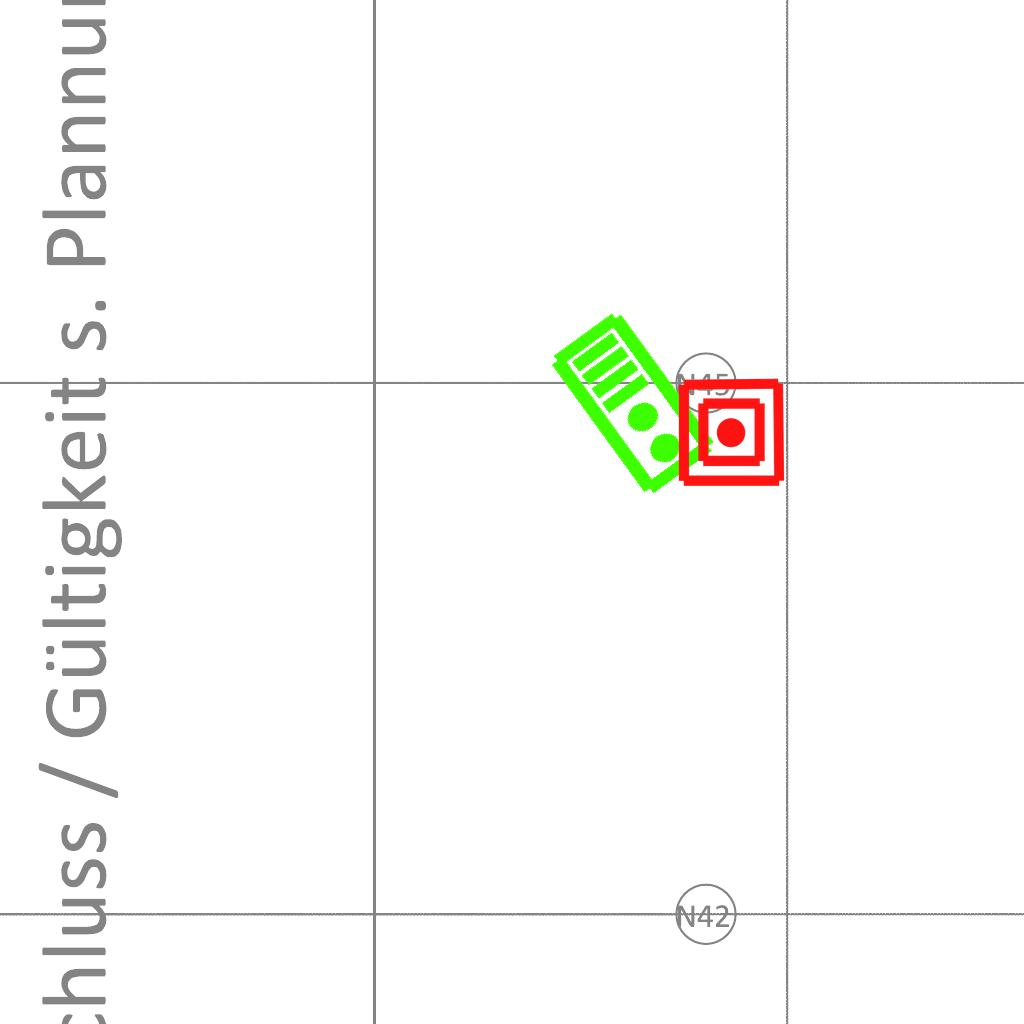Gegensprechanlage_mit_Video: (544, 303, 725, 503)
NAM-Nichtautomatischer_Melder: (675, 376, 788, 489)
